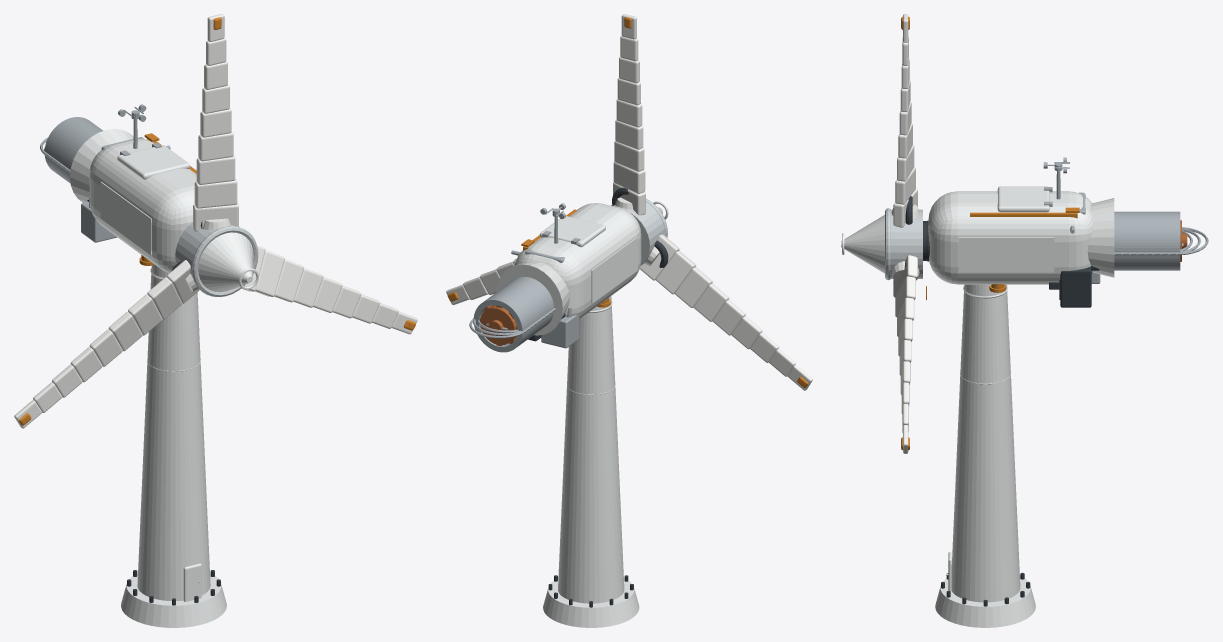
Rendered from wind_turbine.glb.
3 renders of one model, left to right at view 1: azimuth 30°, elevation 25°; view 2: azimuth 150°, elevation 25°; view 3: azimuth 270°, elevation 25°, orthographic. The views are drawn at different scales.
Parts seen in each view (by area): view 1: tower, blades, nacelle_shell, spinner, generator_stator, hub, transformer; view 2: tower, blades, nacelle_shell, generator_stator, hub, generator_rotor, transformer; view 3: tower, nacelle_shell, blades, generator_stator, hub, spinner, converter, service_crane.
Boxes of the visible parts, x1,y1,x2,y2 form: tower: (121,263,226,627); blades: (14,14,417,428); nacelle_shell: (70,129,196,273); spinner: (198,232,258,292); generator_stator: (40,117,103,183); hub: (175,222,258,296); transformer: (81,197,117,242); tower: (543,296,639,627); blades: (446,14,812,390); nacelle_shell: (496,203,641,335); generator_stator: (469,276,555,352); hub: (611,198,667,265); generator_rotor: (479,305,517,346); transformer: (541,308,579,348); tower: (935,284,1035,627); nacelle_shell: (928,186,1114,284); blades: (891,14,919,453); generator_stator: (1114,211,1208,270); hub: (885,208,922,280); spinner: (841,215,884,273); converter: (1049,266,1091,307); service_crane: (970,207,1079,218).
Bounding box in the file's own units: 2.54 × 3.74 × 2.11.
